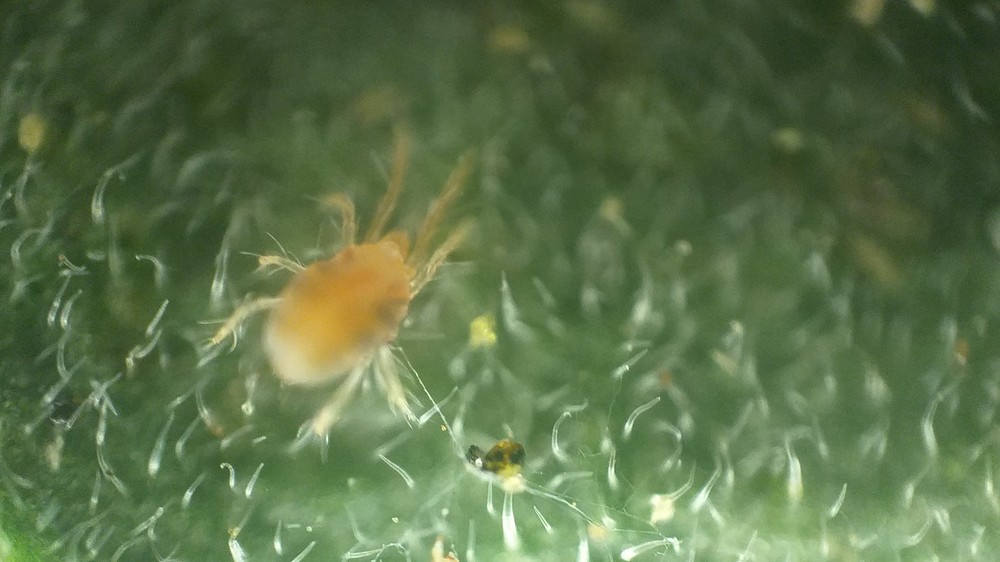Aracnido Rojo: (184, 130, 494, 459)
